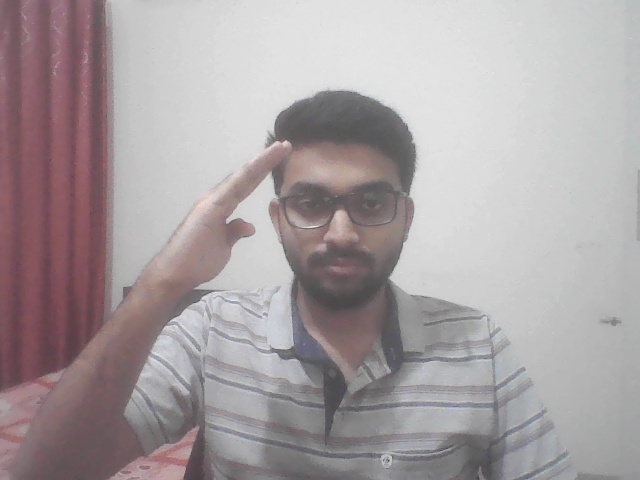hello: (130, 124, 299, 349)
